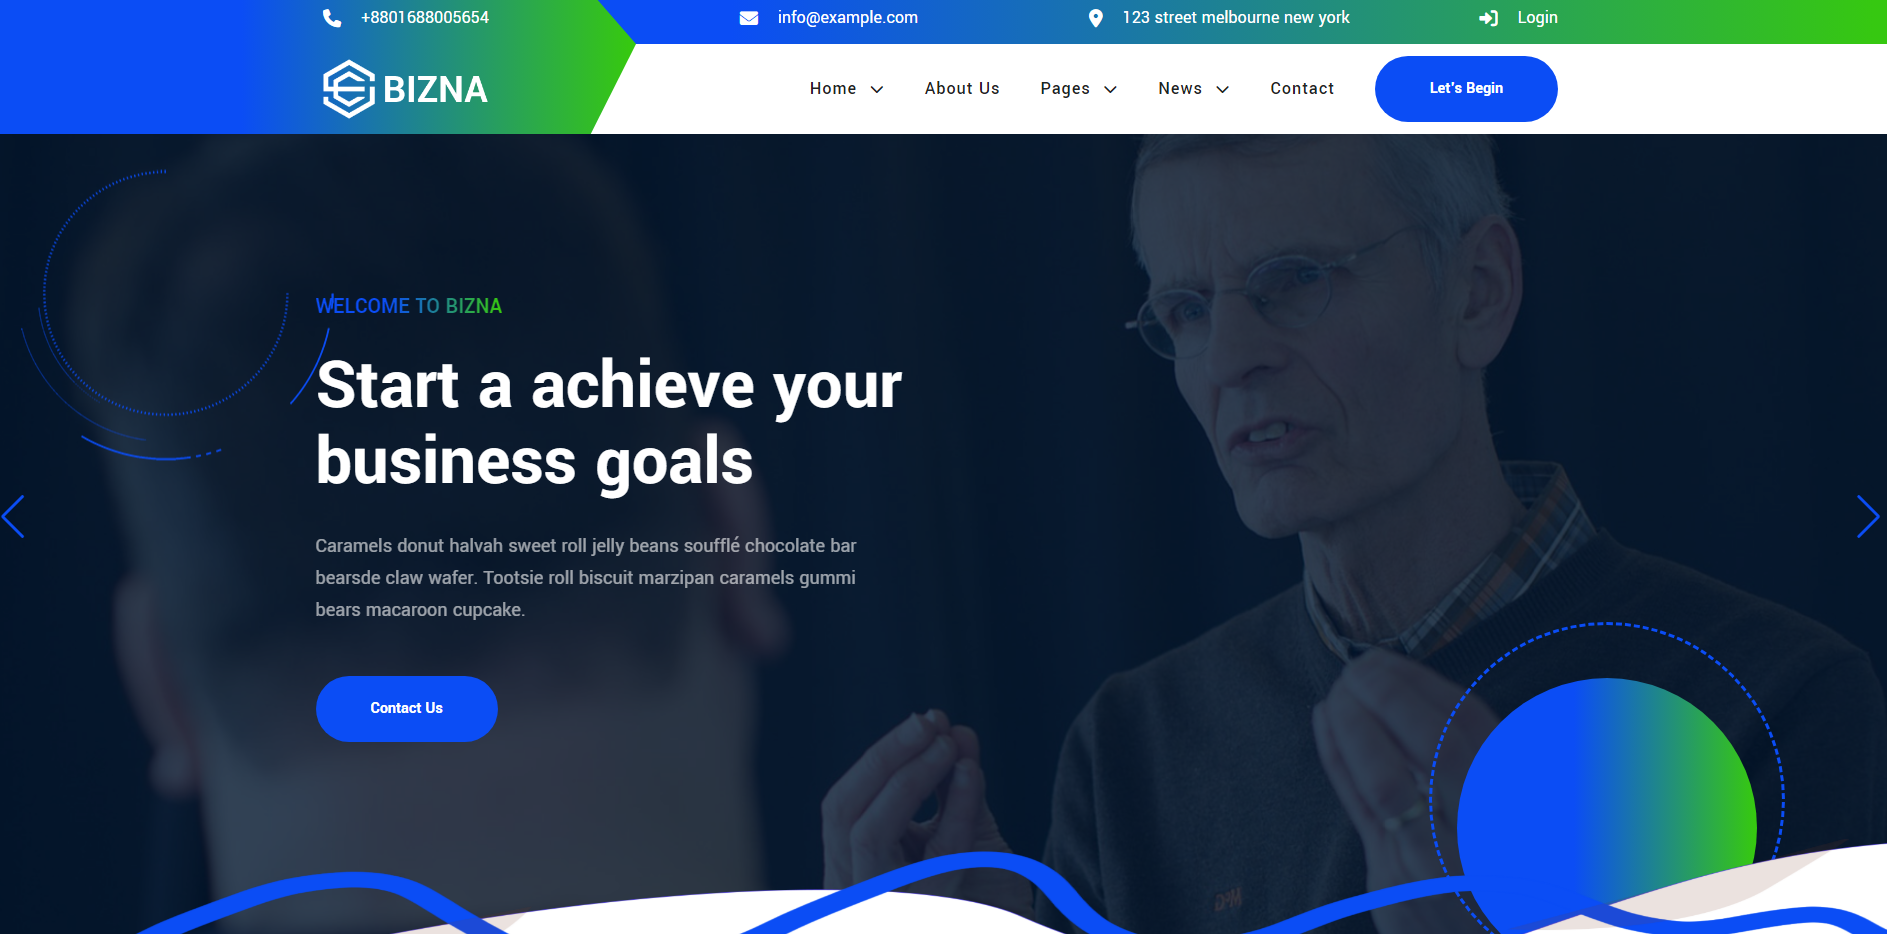menu: (22, 4, 1855, 237)
